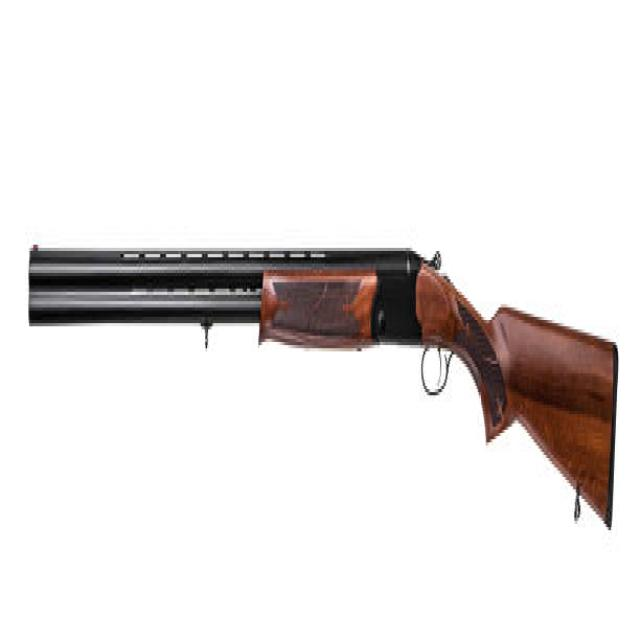rifle: (22, 221, 624, 559)
